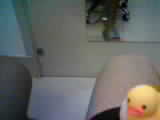duck: (113, 78, 158, 111)
